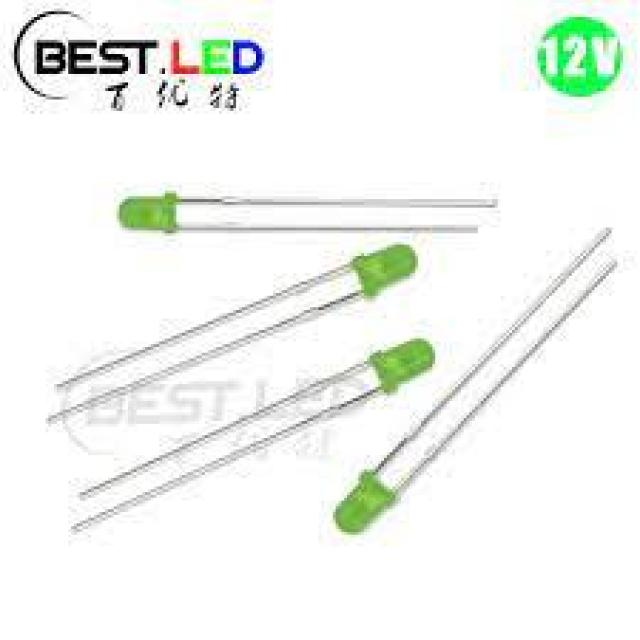Led: (229, 244, 416, 349), (119, 191, 498, 231), (292, 339, 432, 419), (334, 466, 398, 532)
